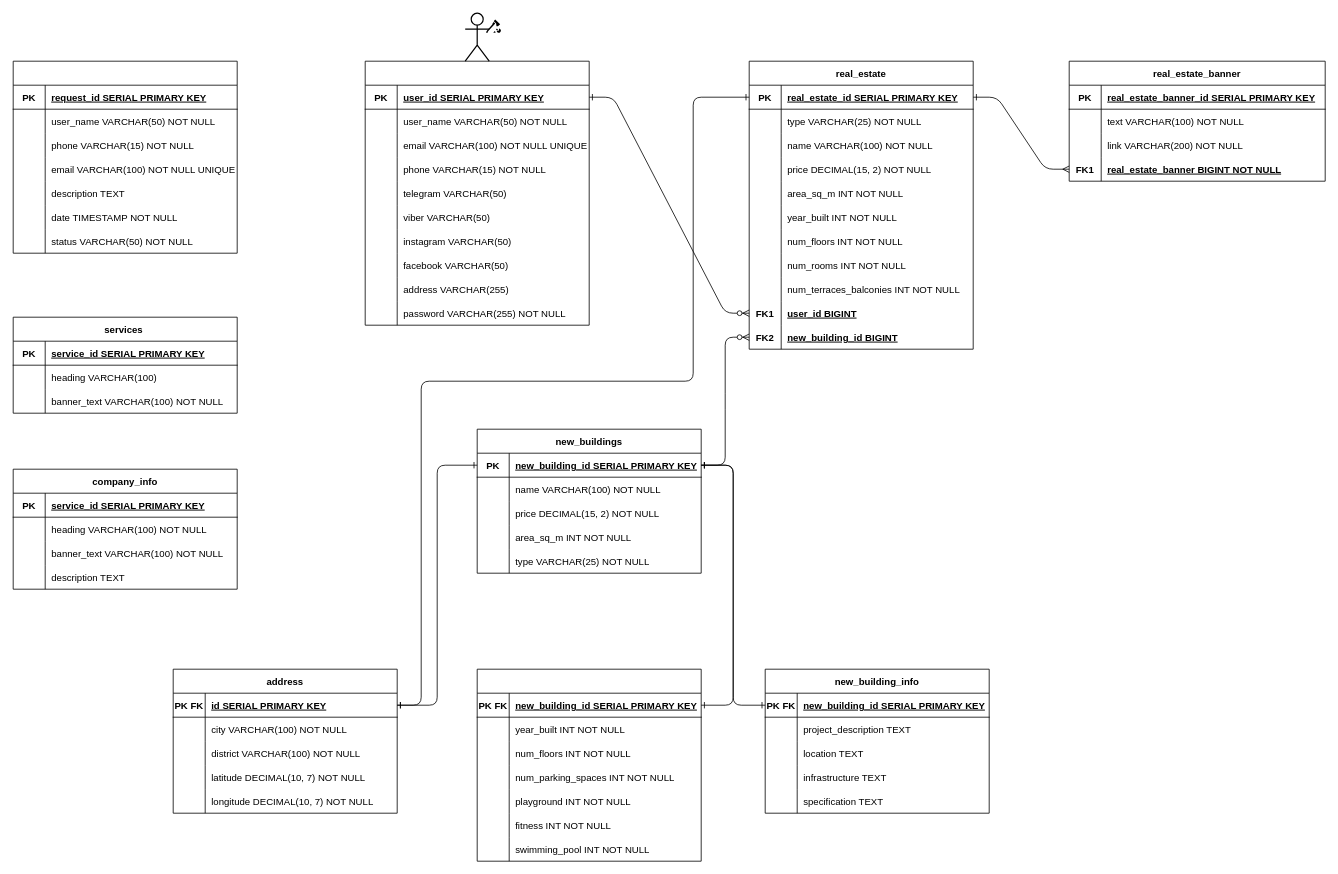
This 1338x874 diagram has some shape labels left out. Here are the shapes that lost their labels. From the top down, the box of each, then its label:
(12, 60, 237, 253): requests
(364, 60, 589, 325): users
(476, 668, 701, 861): new_building_details
